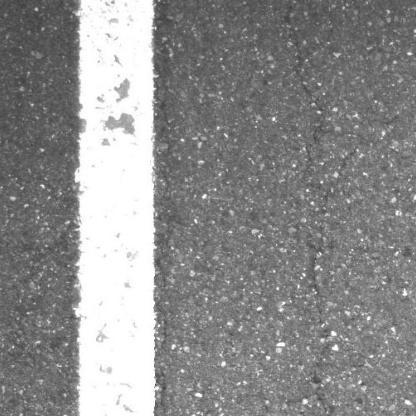Cracks: (280, 0, 333, 167), (308, 186, 337, 381), (312, 389, 339, 416)
